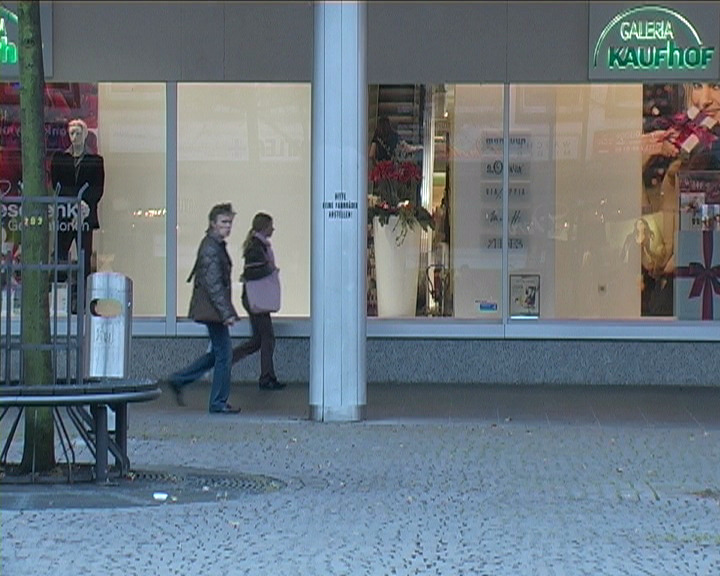deflection: (194, 200, 243, 296)
